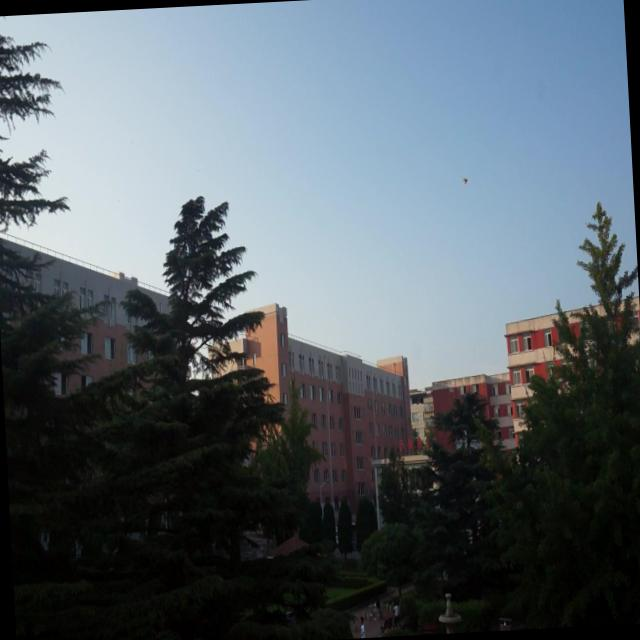drone: (462, 175, 470, 188)
